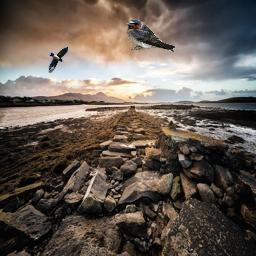Swallow: (125, 19, 176, 52), (48, 46, 68, 73)
